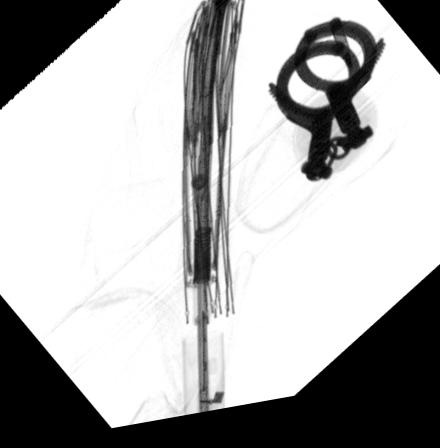Bullet: (326, 29, 352, 82)
HandCuffs: (264, 32, 387, 195)
